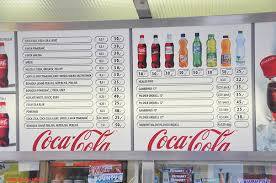coke: (136, 32, 149, 69)
